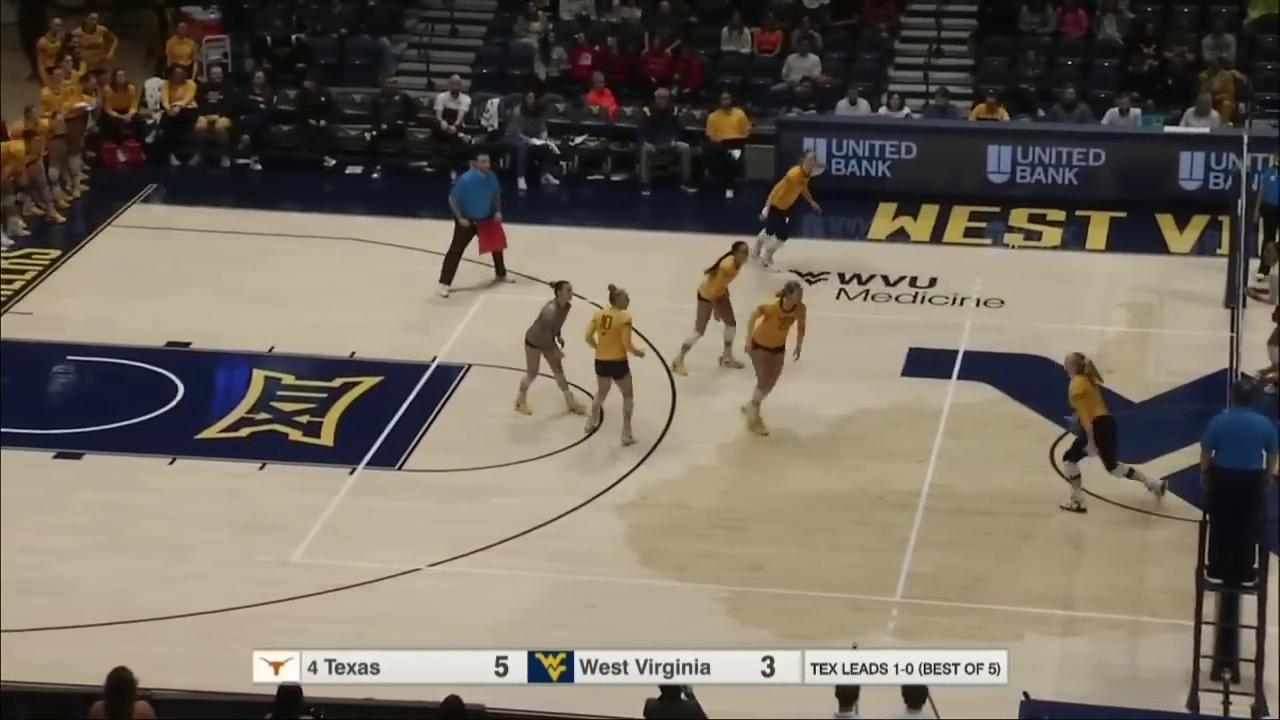player: (1060, 354, 1155, 507), (741, 272, 807, 439), (673, 238, 746, 372), (519, 282, 583, 415), (587, 289, 638, 443), (758, 157, 818, 268), (1258, 243, 1280, 383)
refree: (1207, 387, 1272, 585), (438, 153, 514, 297), (1250, 149, 1280, 281)
